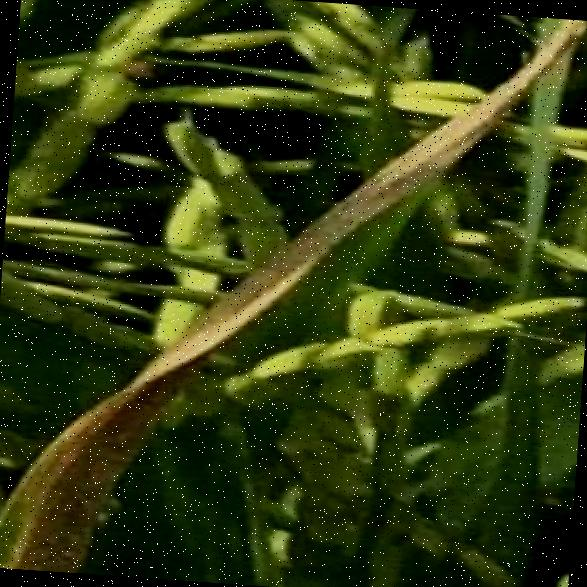Bacteria_Leaf_Blight: (208, 90, 448, 362)
